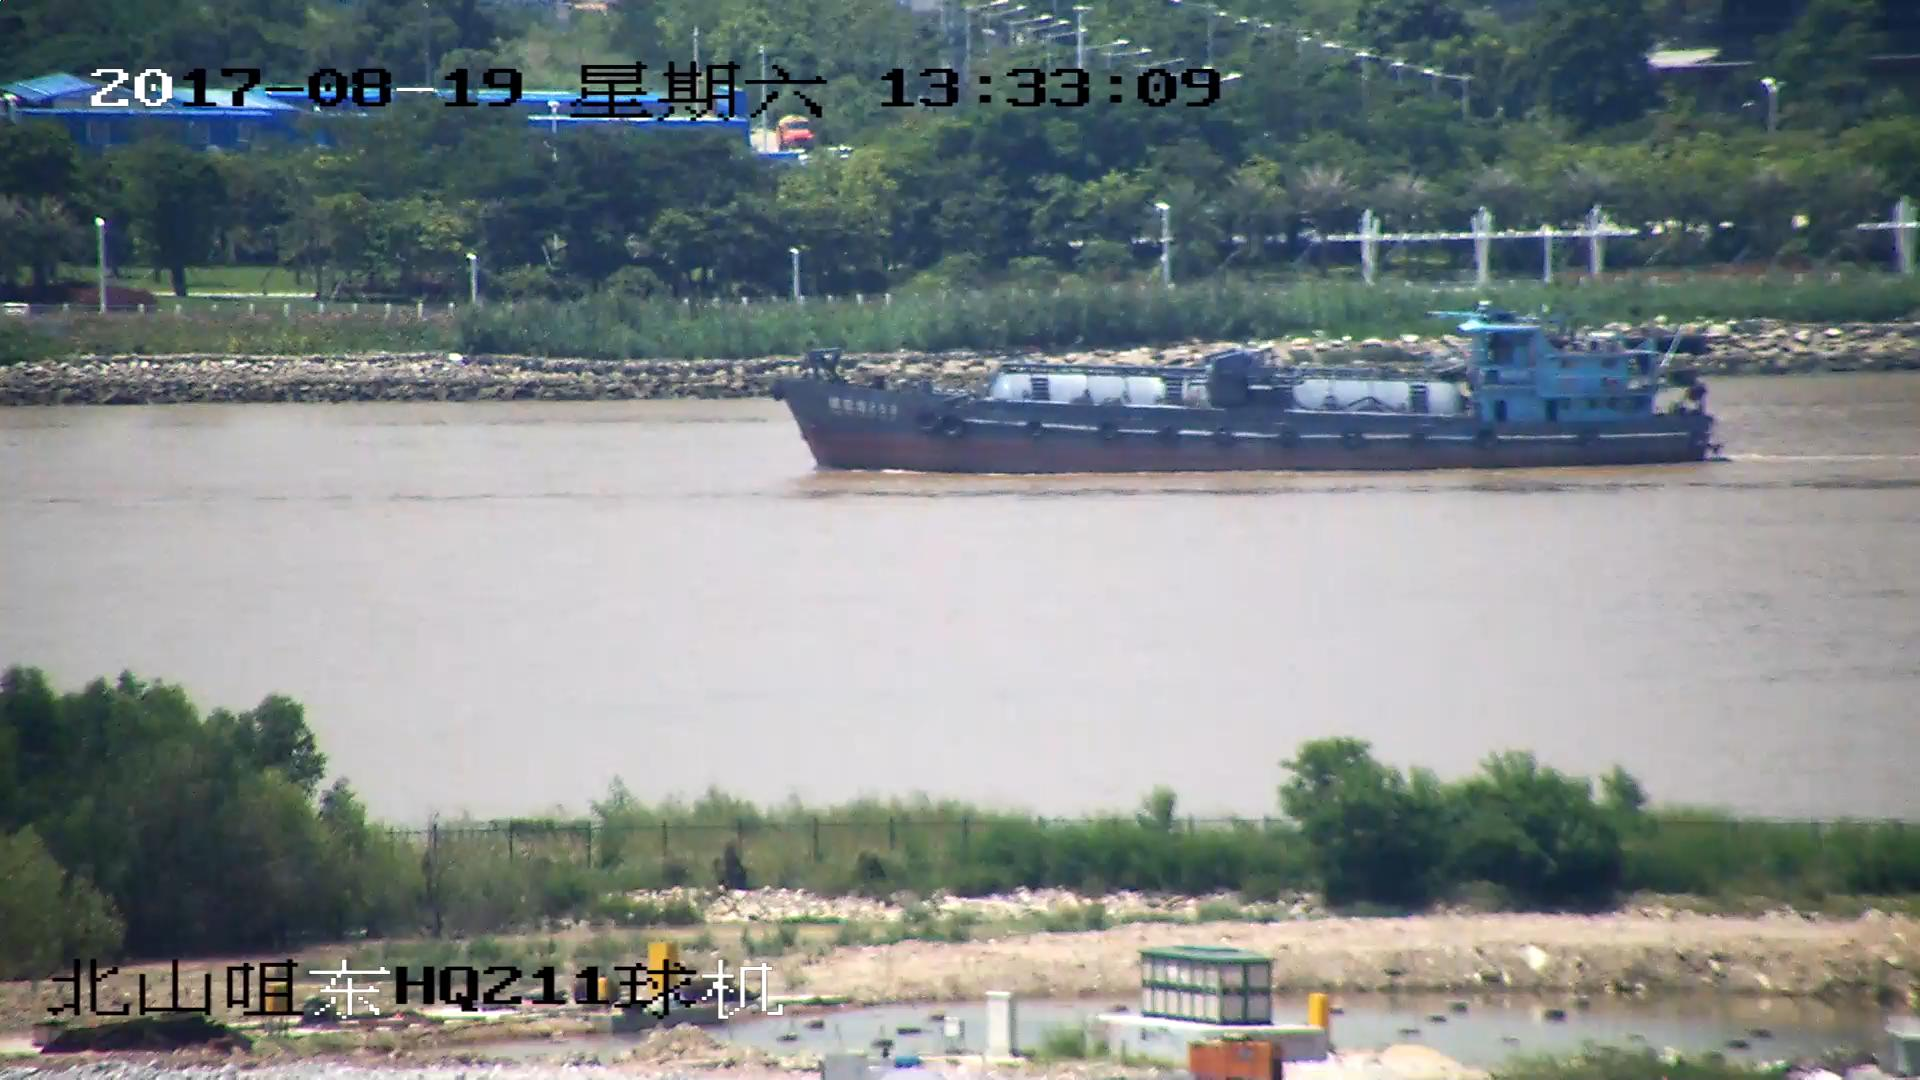bulk cargo carrier: (770, 310, 1718, 473)
